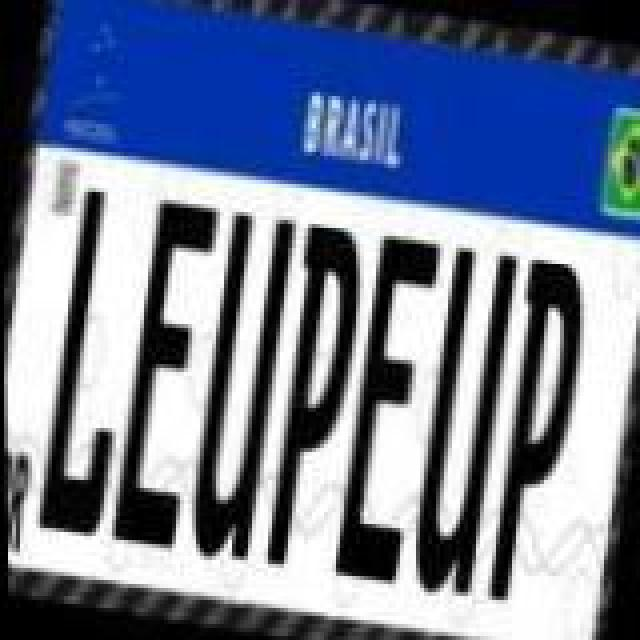E: (324, 232, 448, 588), (102, 198, 226, 550)
L: (30, 184, 154, 536)
P: (252, 222, 376, 578), (472, 252, 596, 604)
U: (176, 204, 300, 560), (396, 244, 520, 600)
